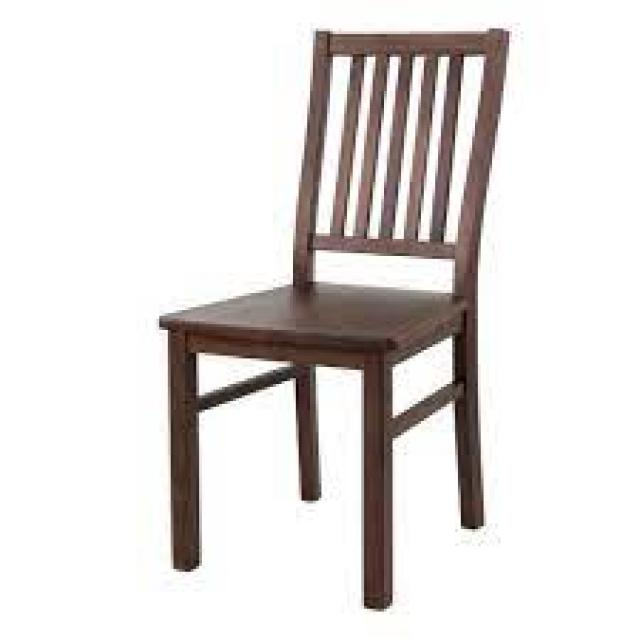chair: (149, 17, 534, 618)
